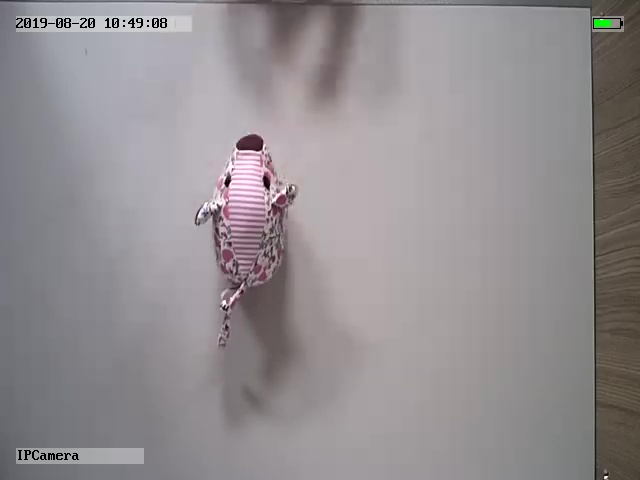pig: (193, 134, 299, 349)
